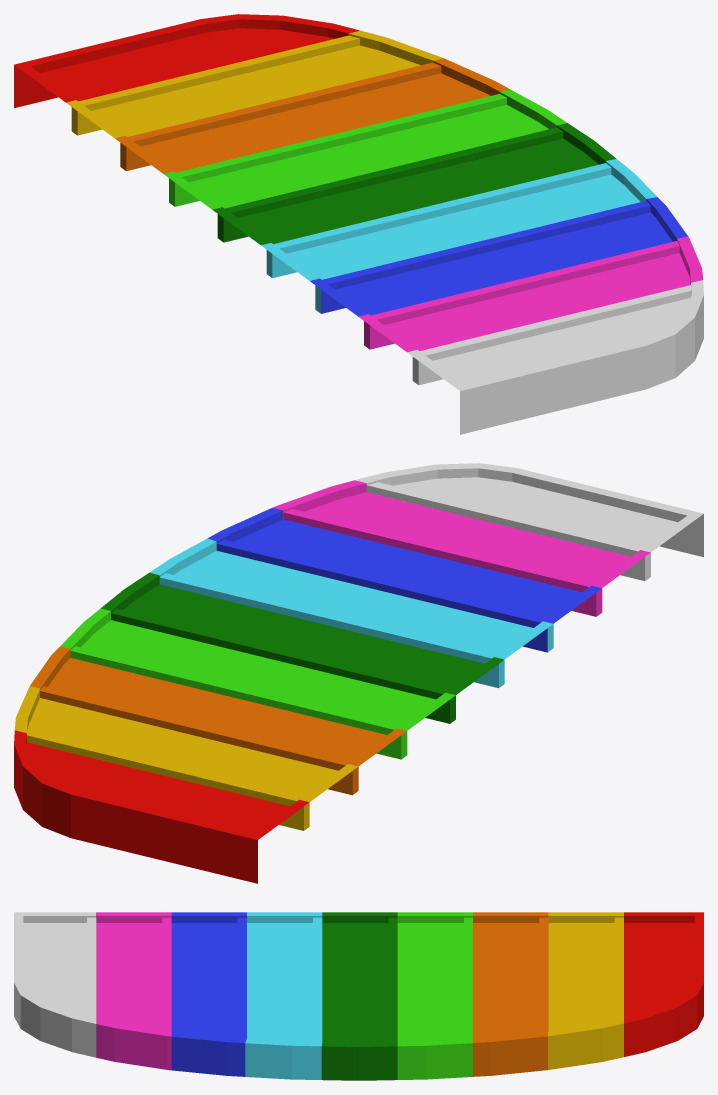
The model's file is Popit.fbx.
The picture shows the model from 3 angles, top to bottom: view 1: azimuth 30°, elevation 25°; view 2: azimuth 150°, elevation 25°; view 3: azimuth 270°, elevation 25°; orthographic projection. The views are drawn at different scales.
Parts seen in each view (by area): view 1: Cube.042; view 2: Cube.042; view 3: Cube.042.
Boxes of the visible parts, x1,y1,x2,y2 form: Cube.042: (14, 14, 703, 434); Cube.042: (14, 463, 703, 883); Cube.042: (14, 912, 703, 1080).
Size of the model in its own units: 56.29 by 6.57 by 122.
